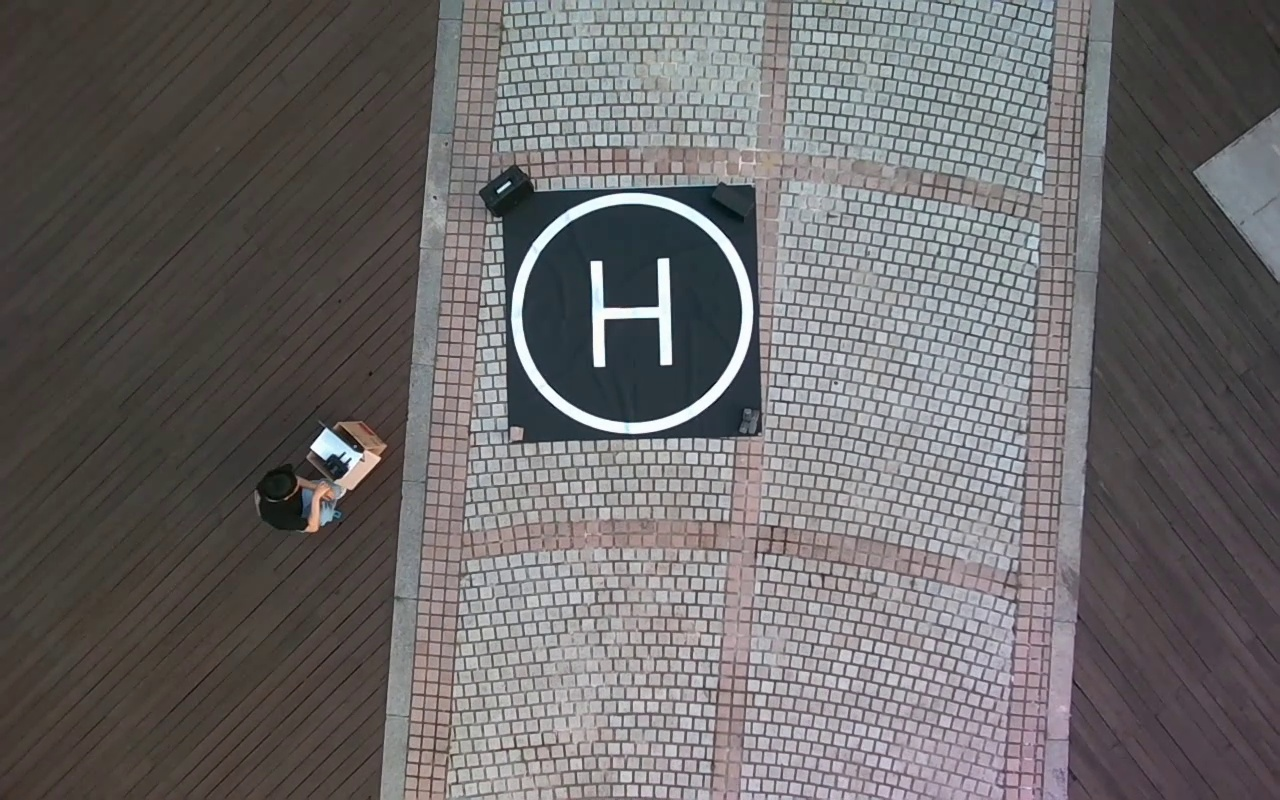H: (588, 257, 673, 368)
heliport: (510, 191, 755, 437)
